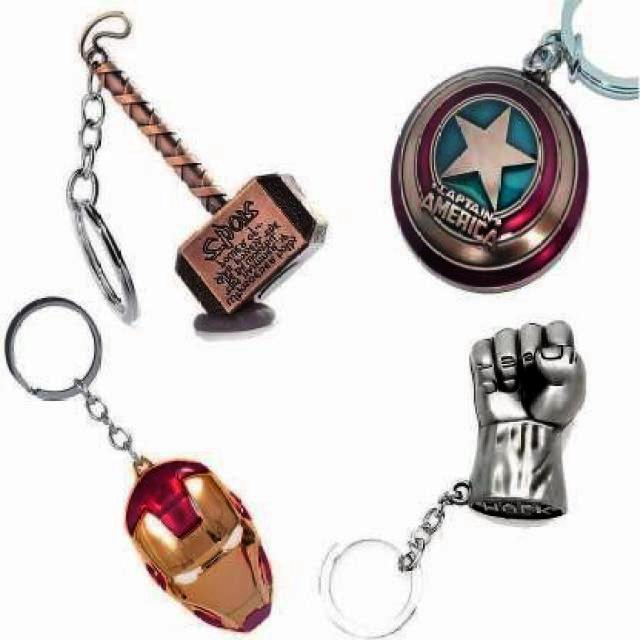hammer: (58, 10, 328, 332)
